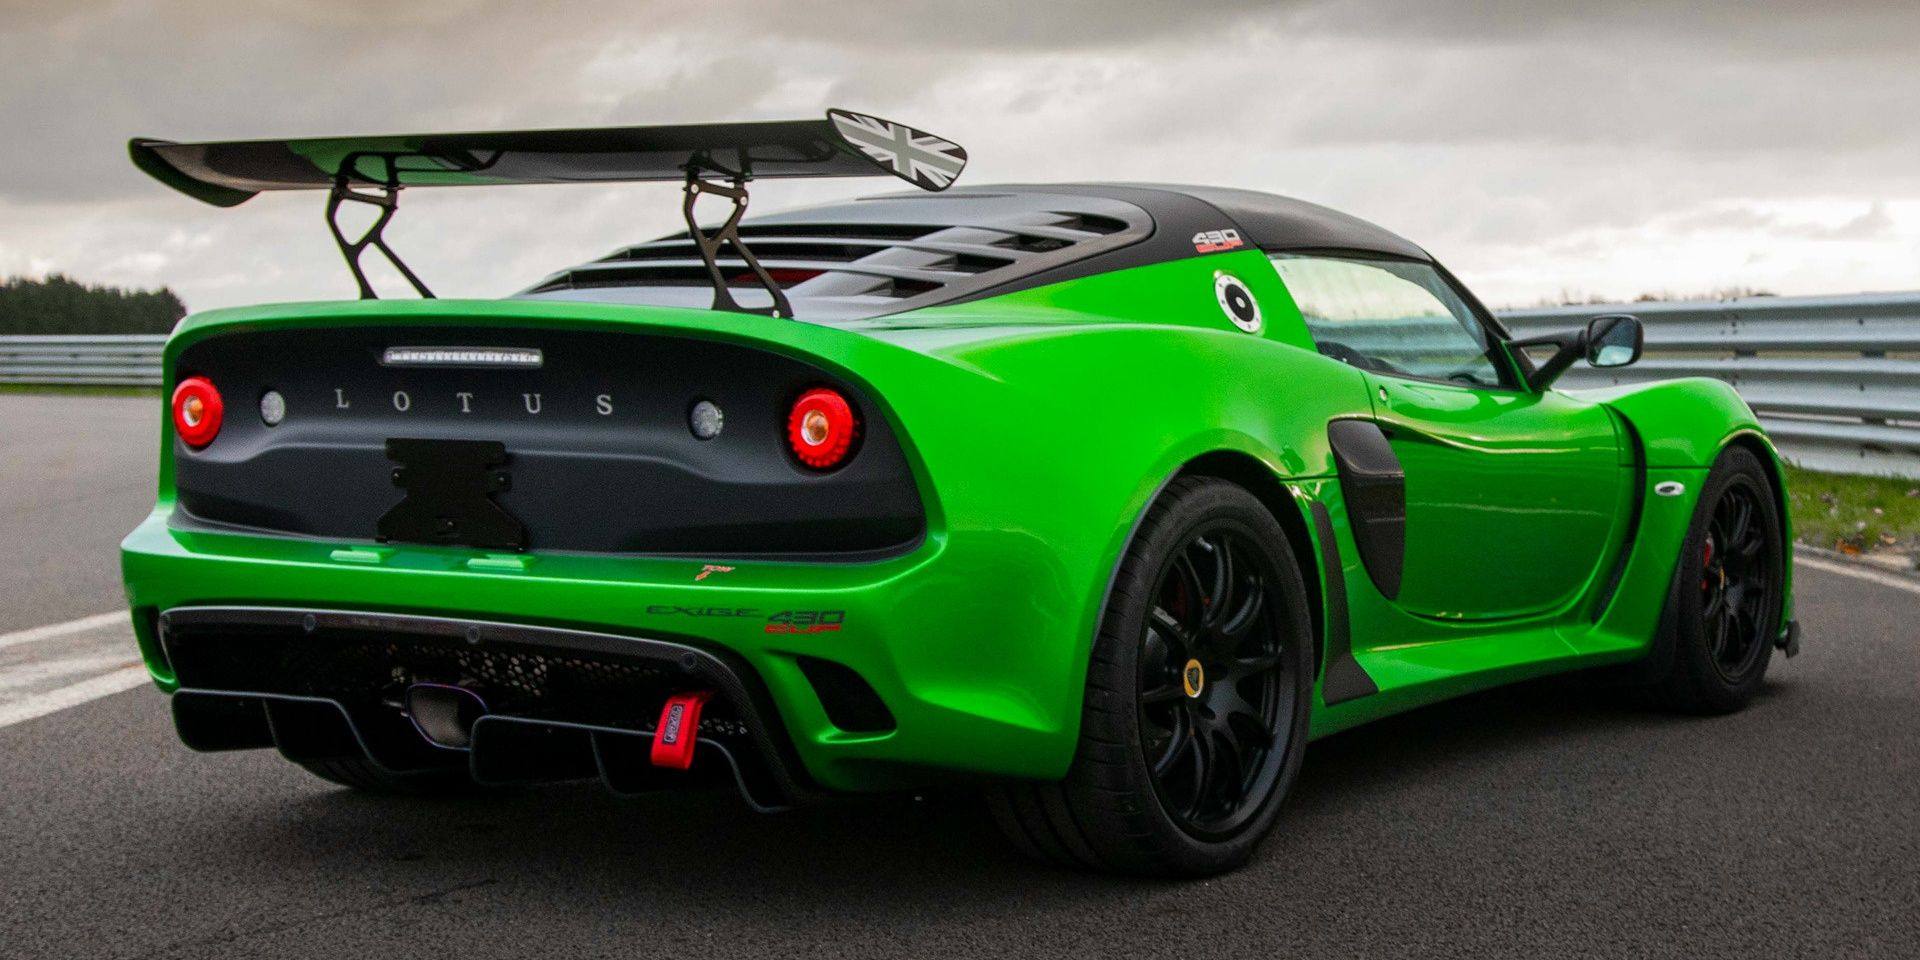headlight: (769, 378, 873, 470), (148, 369, 249, 452)
wheel: (1078, 478, 1329, 873), (1660, 433, 1791, 720), (242, 740, 442, 812)
